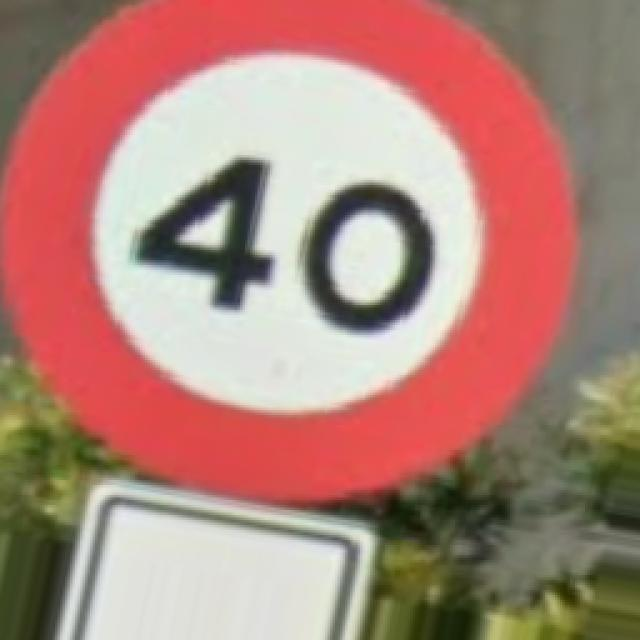Speed Limit -40-: (5, 0, 575, 500)
